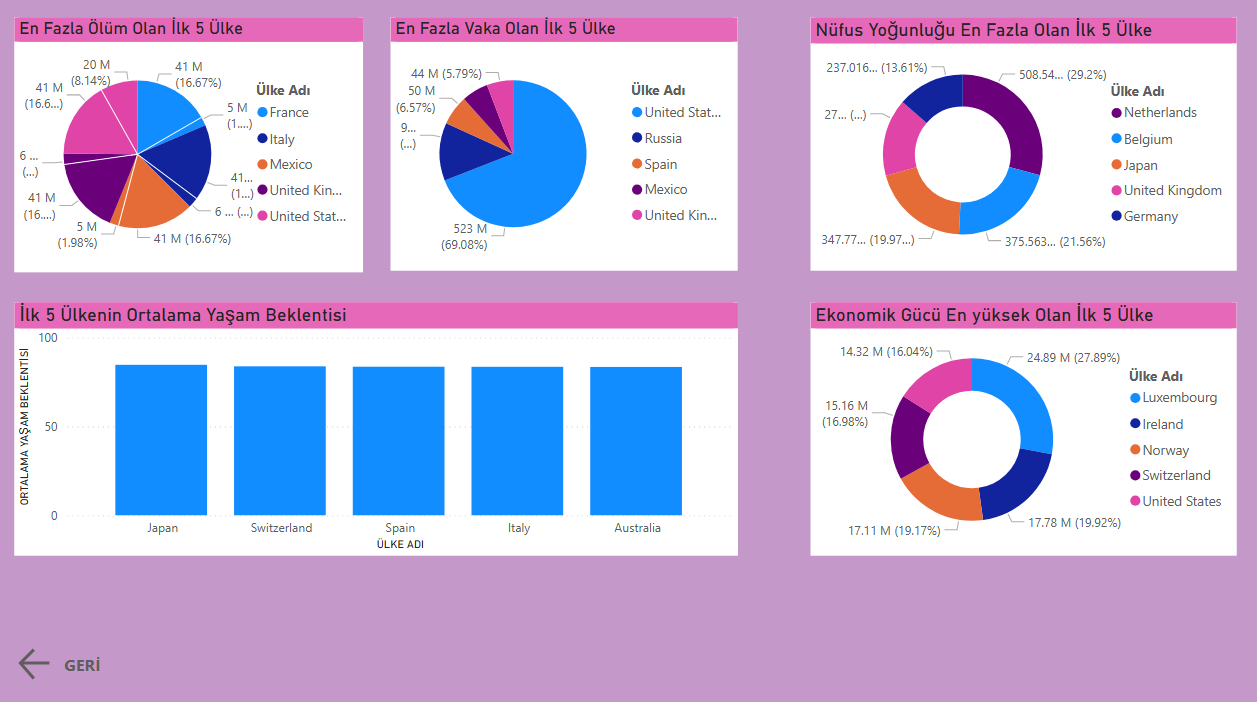

Layout of this report page (visuals, bound fields, positions):
{"tool":"powerbi","page":{"name":"Salgından En Çok Etkilenen  İlk 5 Ülke","canvas":[1280,720],"ordinal":4},"visuals":[{"type":"pieChart","title":"En Fazla Ölüm Olan İlk 5 Ülke","fields":{"Y":["owid-covid-data.Top 5 Ülke Ölüm","Sum(Top5_Ulkeler.Toplam_Olum)"],"Category":["Top5_Ulkeler.Ülke Adı"]},"box":[50.3,40.5,342.3,250.3],"z":0},{"type":"pieChart","title":"En Fazla Vaka Olan İlk 5 Ülke","fields":{"Y":["Sum(Top5_ToplamVaka.Toplam_Vaka)"],"Category":["Top5_ToplamVaka.Ülke Adı"]},"box":[419.6,40.5,341.1,249.1],"z":1000},{"type":"clusteredColumnChart","title":"İlk 5 Ülkenin Ortalama Yaşam Beklentisi","fields":{"Y":["Sum(Top5_OrtalamaYasamBeklentisi.Ort_Yasam_Beklentisi)"],"Category":["Top5_OrtalamaYasamBeklentisi.Ülke Adı"]},"box":[50.3,320.2,710.4,249.1],"z":2000},{"type":"donutChart","title":"Nüfus Yoğunluğu En Fazla Olan İlk 5 Ülke","fields":{"Category":["Top5_NufusYogunlugu.Ülke Adı"],"Y":["Sum(Top5_NufusYogunlugu.Ort_Nufus_Yogunlugu)"]},"box":[831.9,40.5,418.4,249.1],"z":3000},{"type":"donutChart","title":"Ekonomik Gücü En yüksek Olan İlk 5 Ülke","fields":{"Y":["Sum(Top5_EkonomikGuc.Toplam_GSYH)"],"Category":["Top5_EkonomikGuc.Ülke Adı"]},"box":[831.9,320.2,418.4,249.1],"z":4000},{"type":"actionButton","box":[50.3,655.2,133.7,40.5],"z":5000}]}

Visuals, with their boxes in screenshot pixels (x1, y1, x2, y2), scaled from the page's 1280x720 canvas onto the 1257x702 screenshot:
"En Fazla Ölüm Olan İlk 5 Ülke" pieChart: (49, 39, 386, 284)
"En Fazla Vaka Olan İlk 5 Ülke" pieChart: (412, 39, 747, 282)
"İlk 5 Ülkenin Ortalama Yaşam Beklentisi" clusteredColumnChart: (49, 312, 747, 555)
"Nüfus Yoğunluğu En Fazla Olan İlk 5 Ülke" donutChart: (817, 39, 1228, 282)
"Ekonomik Gücü En yüksek Olan İlk 5 Ülke" donutChart: (817, 312, 1228, 555)
actionButton: (49, 639, 181, 678)
